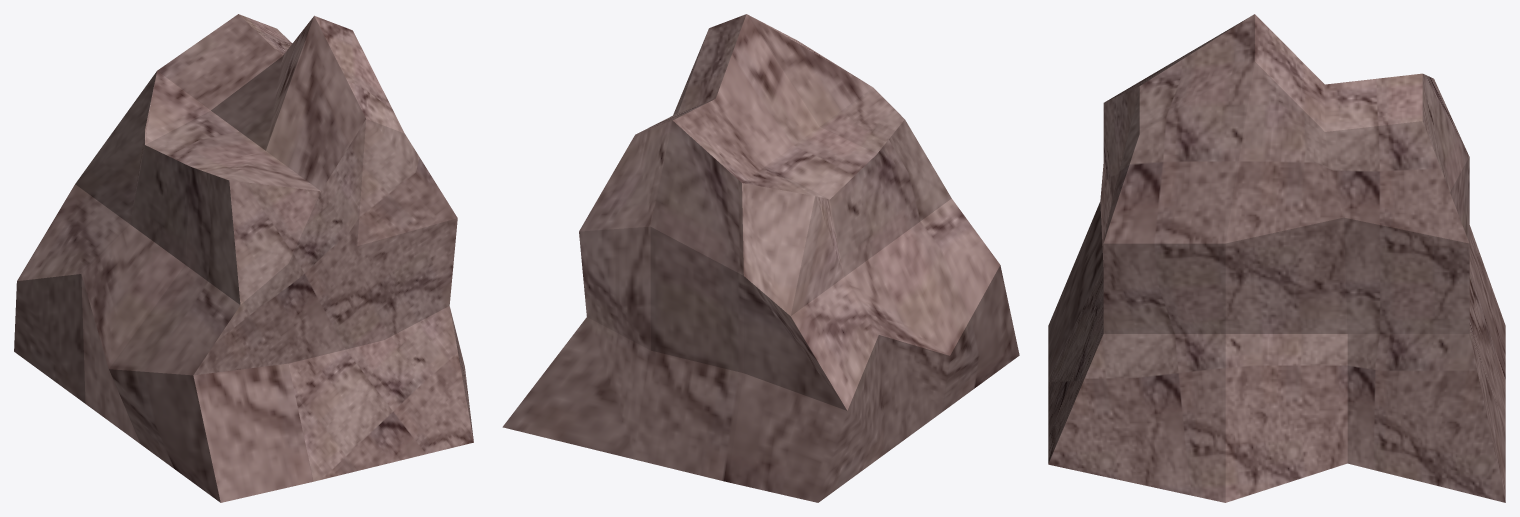
The model's file is Rock.fbx.
The picture shows the model from 3 angles, left to right: view 1: azimuth 30°, elevation 25°; view 2: azimuth 150°, elevation 25°; view 3: azimuth 270°, elevation 25°; orthographic projection. The views are drawn at different scales.
Visible parts, largest first — view 1: Cube; view 2: Cube; view 3: Cube.
Part boxes in pixels (bbox=[...]): Cube: bbox=[14, 14, 473, 502]; Cube: bbox=[502, 14, 1019, 502]; Cube: bbox=[1048, 14, 1505, 502].
Bounding box in the file's own units: 241 × 250 × 250.
1 material, 1 textured.
